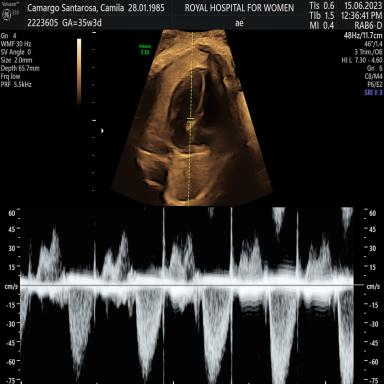Ultrasound-Waves: (26, 207, 354, 384)
